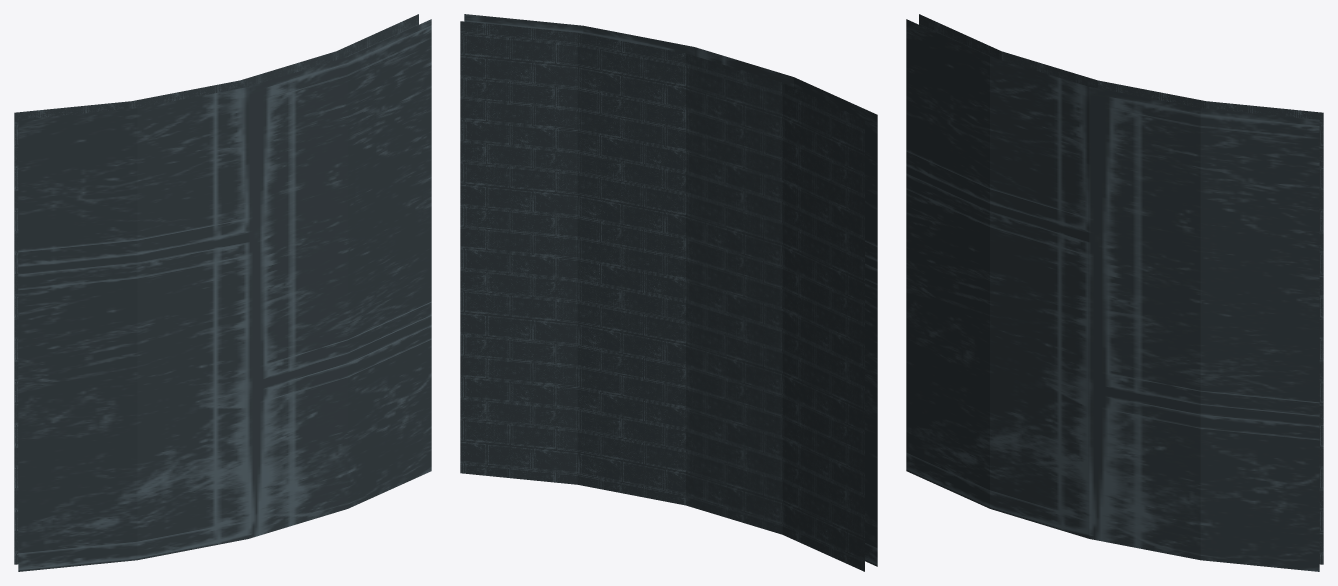
File: maincurvewall.fbx
3 renders of one model, left to right at view 1: azimuth 30°, elevation 25°; view 2: azimuth 150°, elevation 25°; view 3: azimuth 330°, elevation 25°, orthographic.
Parts seen in each view (by area): view 1: Cylinder.001; view 2: Cylinder.001; view 3: Cylinder.001.
Boxes of the visible parts, x1,y1,x2,y2 form: Cylinder.001: [14, 14, 431, 571]; Cylinder.001: [460, 14, 877, 571]; Cylinder.001: [906, 14, 1323, 571].
Size of the model in its own units: 383 by 400 by 51.46.
